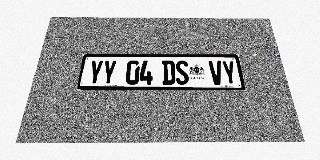0: (125, 60, 140, 85)
4: (139, 60, 153, 85)
D: (162, 60, 175, 85)
S: (175, 61, 189, 85)
V: (208, 61, 224, 85)
Y: (87, 60, 104, 85), (221, 61, 238, 85), (101, 60, 117, 85)
